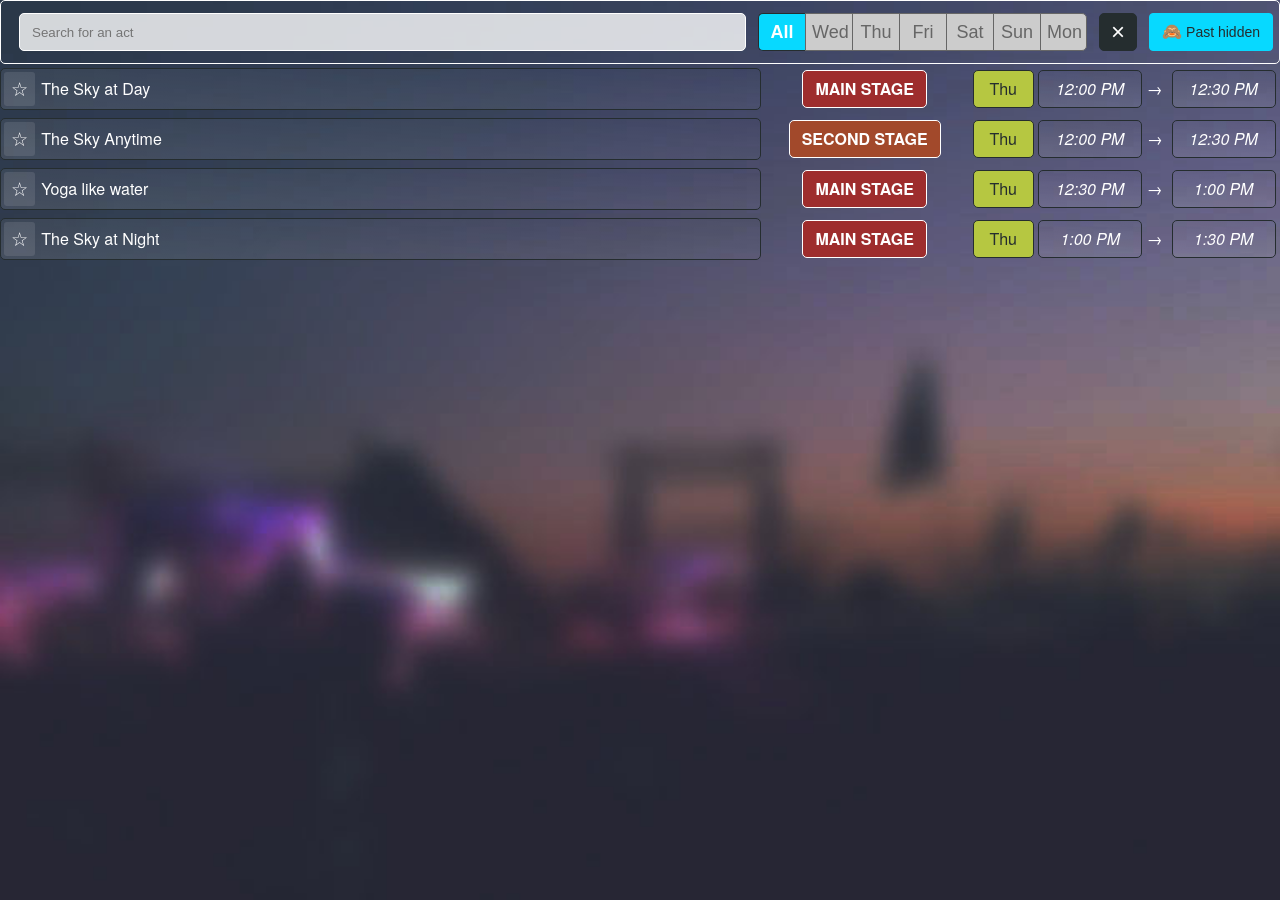
Test: Acts component › should show no results if search input is less than 3 characters
Type "Y" into the field labelled "Search for an act".
click(383, 32); type("Y")  # box [19, 13, 746, 51]
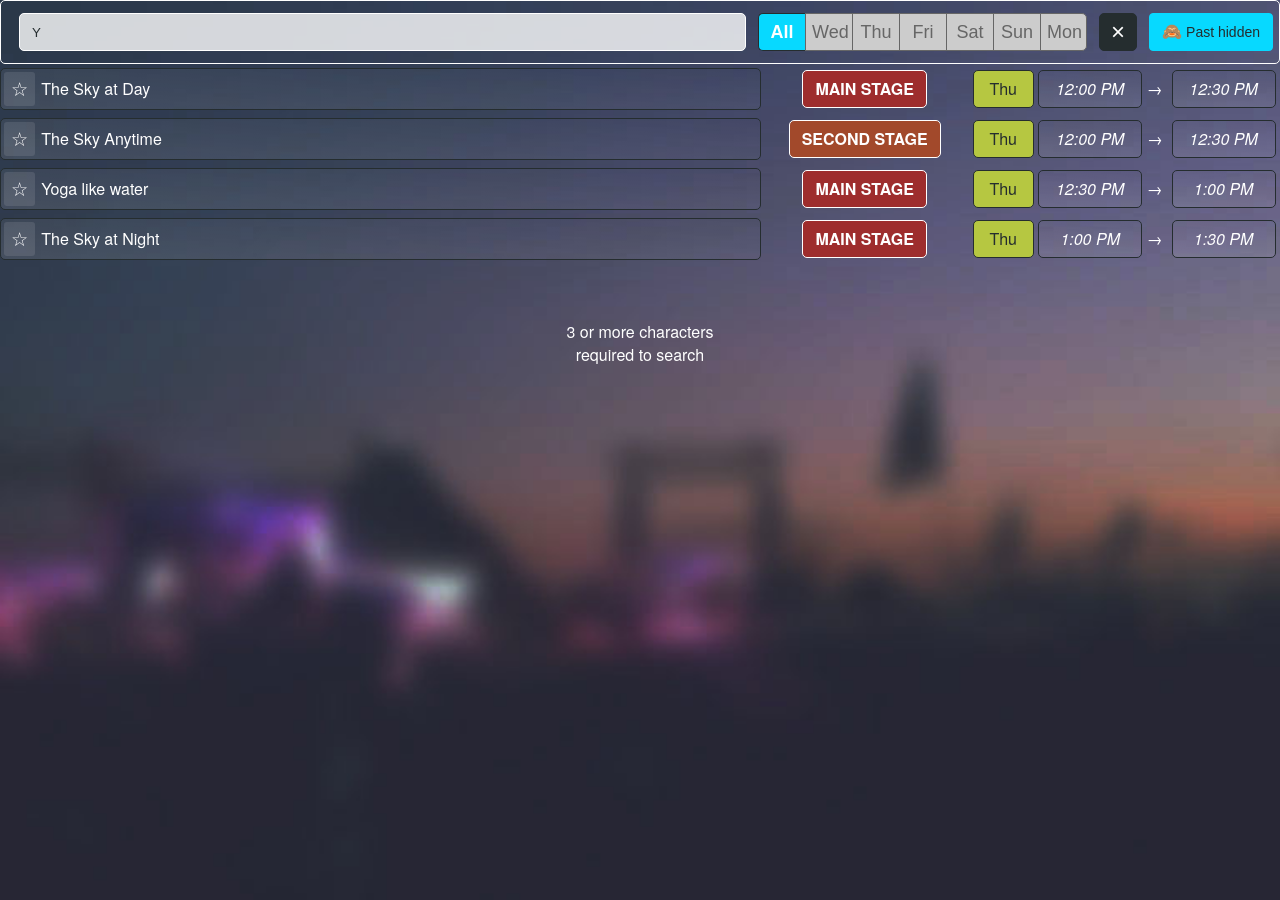
Expected: the text "3 or more characters required to search" is shown, [566, 320, 714, 366]
